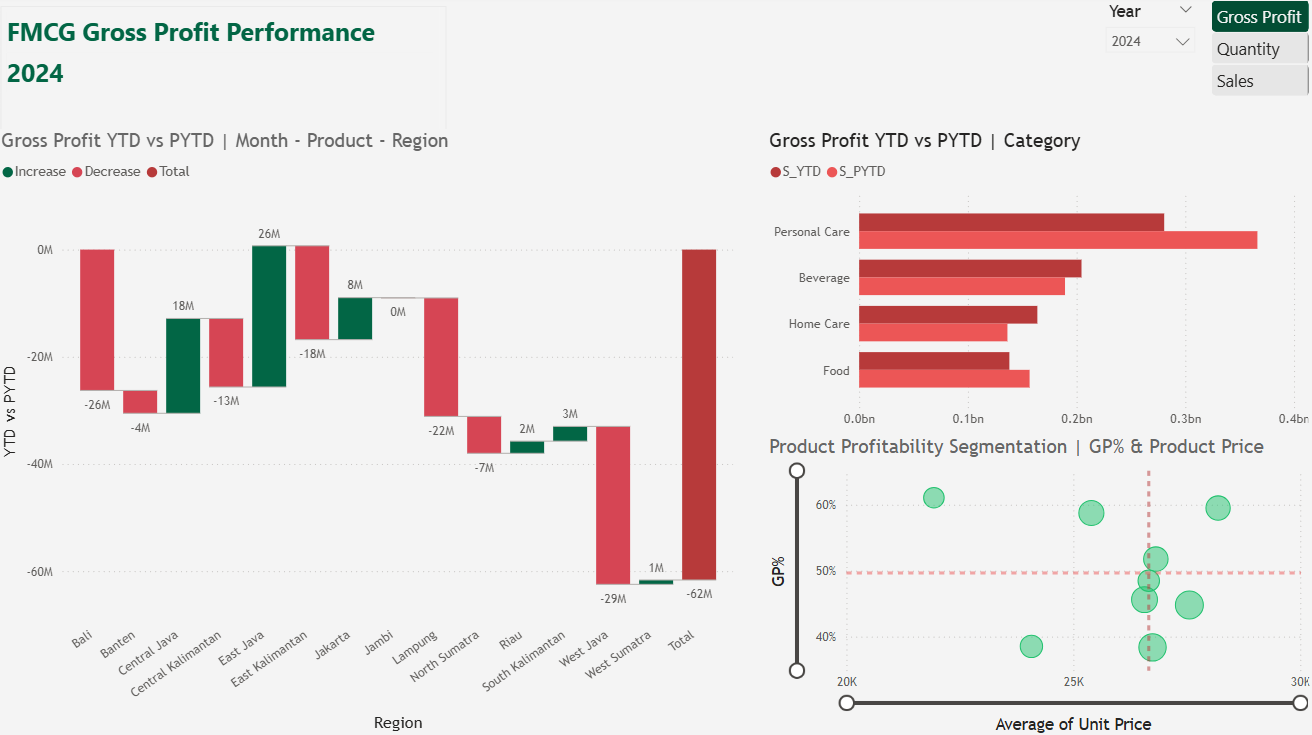

Layout of this report page (visuals, bound fields, positions):
{"tool":"powerbi","page":{"name":"Performance Report - 2","canvas":[1280,720],"ordinal":1},"visuals":[{"type":"advancedSlicerVisual","fields":{"Values":["New_Slc_Values.Column1"]},"box":[1173.9,1.6,105.2,103.6],"z":0},{"type":"scatterChart","fields":{"Y":["_New__Measures.New GP%"],"Category":["Dim_Product.ProductID"],"Size":["Sum(Fact_Sales.Units Sold)"],"X":["Avg(Fact_Sales.Unit Price)"]},"box":[744.6,427.7,535.4,292.3],"z":1000},{"type":"cardVisual","fields":{"Data":["_New__Measures._New_Report Title","_New__Measures._New_Report Title 2"]},"box":[4.8,11.2,431.8,129.1],"z":2000},{"type":"slicer","fields":{"Values":["Dim_Date.Date.Variation.Date Hierarchy.Year"]},"box":[1067.1,1.6,106.9,103.6],"z":3000},{"type":"waterfallChart","fields":{"Category":["Dim_Date.Date.Variation.Date Hierarchy.Month","Dim_Product.Product","Dim_Region.Region"],"Y":["_New__Measures.New YTD vs PYTD"]},"box":[0,131.2,720.6,589.4],"z":4000},{"type":"clusteredBarChart","fields":{"Category":["Dim_Product.Category"],"Y":["_Measures.S_YTD","_Measures.S_PYTD"]},"box":[745,131,535,297],"z":5000}]}

Visuals, with their boxes in screenshot pixels (x1, y1, x2, y2), scaled from the page's 1280x720 canvas onto the 1312x735 screenshot:
advancedSlicerVisual - New_Slc_Values.Column1: (x1=1203, y1=2, x2=1311, y2=107)
scatterChart - _New__Measures.New GP% x Dim_Product.ProductID: (x1=763, y1=437, x2=1311, y2=734)
cardVisual - _New__Measures._New_Report Title x _New__Measures._New_Report Title 2: (x1=5, y1=11, x2=448, y2=143)
slicer - Dim_Date.Date.Variation.Date Hierarchy.Year: (x1=1094, y1=2, x2=1203, y2=107)
waterfallChart - Dim_Date.Date.Variation.Date Hierarchy.Month x Dim_Product.Product: (x1=0, y1=134, x2=739, y2=734)
clusteredBarChart - Dim_Product.Category x _Measures.S_YTD: (x1=764, y1=134, x2=1311, y2=437)
